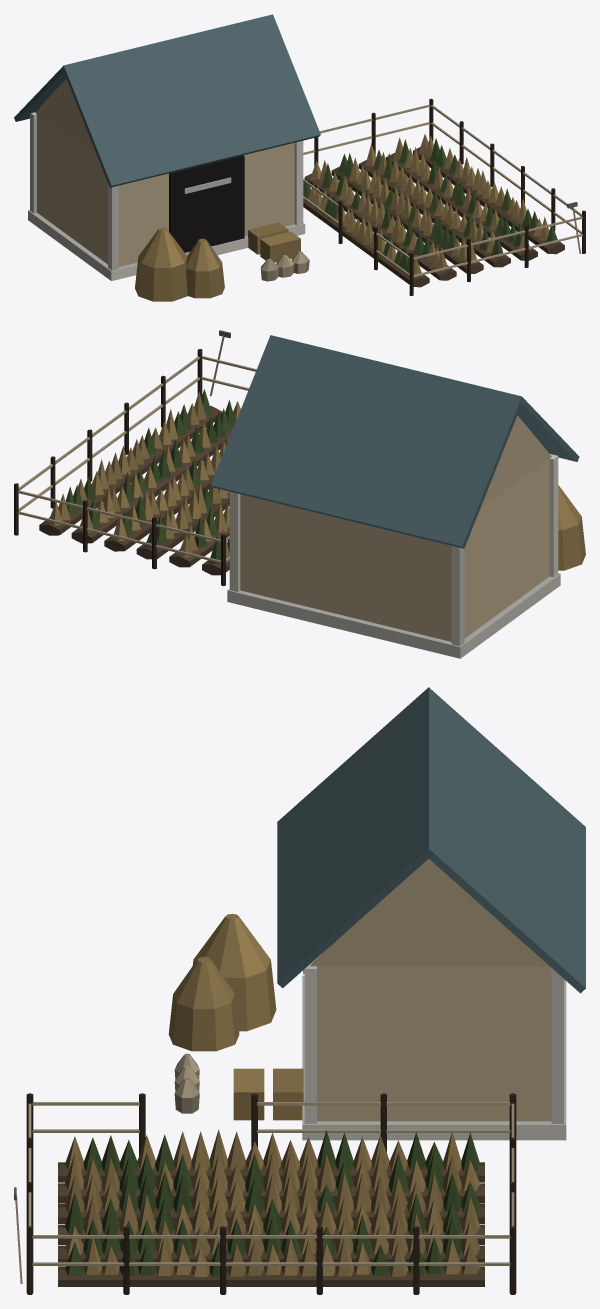
The model's file is walk_veiled_farm.glb.
The picture shows the model from 3 angles, top to bottom: view 1: azimuth 30°, elevation 25°; view 2: azimuth 150°, elevation 25°; view 3: azimuth 270°, elevation 25°; orthographic projection. The views are drawn at different scales.
Visible parts, largest first — view 1: walk_veiled_farm, walk_veiled_farm_roof; view 2: walk_veiled_farm, walk_veiled_farm_roof; view 3: walk_veiled_farm, walk_veiled_farm_roof.
Boxes of the visible parts, x1=… form: walk_veiled_farm: x1=28, y1=79, x2=585, y2=301; walk_veiled_farm_roof: x1=14, y1=14, x2=320, y2=187; walk_veiled_farm: x1=14, y1=330, x2=585, y2=658; walk_veiled_farm_roof: x1=211, y1=335, x2=579, y2=548; walk_veiled_farm: x1=14, y1=858, x2=566, y2=1294; walk_veiled_farm_roof: x1=277, y1=687, x2=585, y2=993.
Size of what is drawn, in the model's own units: 12.85 by 6.04 by 10.18.
2 materials, 2 textured.
